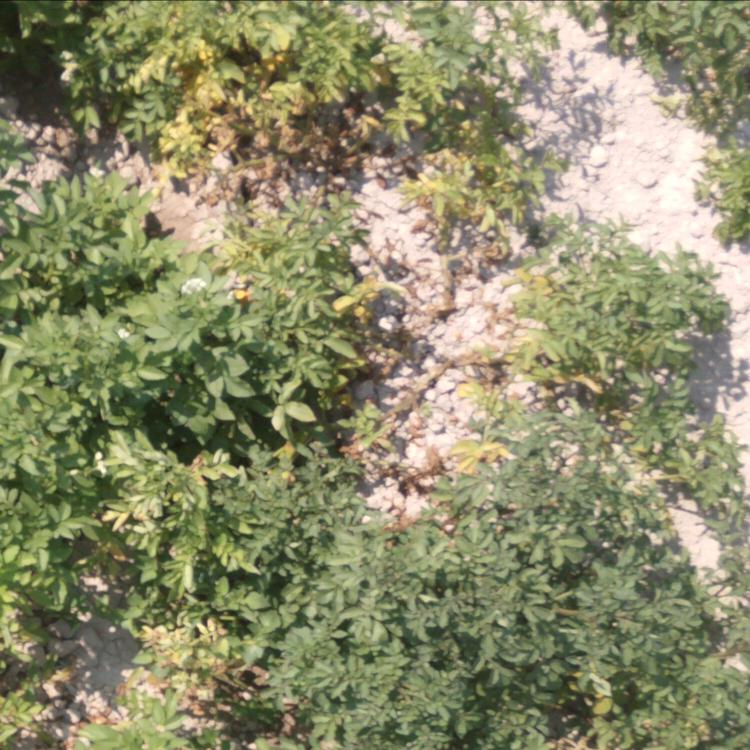healthy: (1, 161, 172, 727), (436, 503, 749, 742), (196, 445, 414, 747), (671, 81, 750, 232), (597, 2, 750, 73)
stressed: (1, 1, 514, 144), (175, 152, 387, 433), (442, 263, 704, 489), (409, 148, 551, 249)
